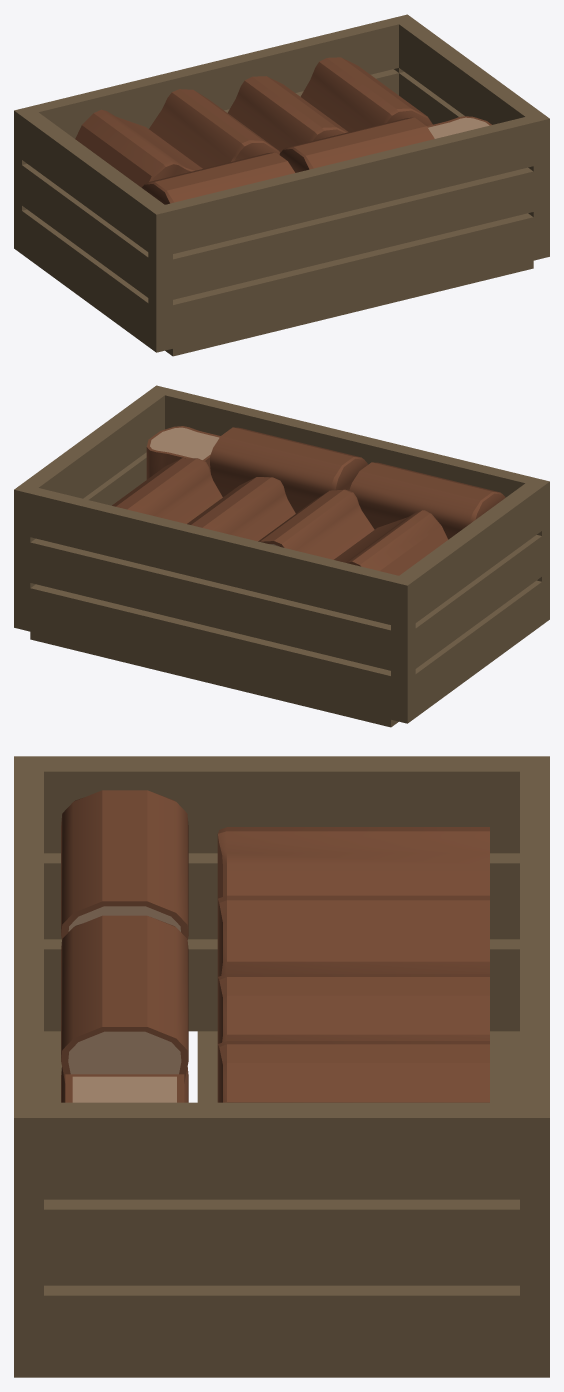
File: BreadCrate_RJ_16-11.fbx
3 renders of one model, top to bottom at view 1: azimuth 30°, elevation 25°; view 2: azimuth 150°, elevation 25°; view 3: azimuth 270°, elevation 25°, orthographic. The views are drawn at different scales.
Visible parts, largest first — view 1: BreadCrate; view 2: BreadCrate; view 3: BreadCrate.
Part boxes in pixels (<box>): BreadCrate: <box>14,14,549,356</box>; BreadCrate: <box>14,385,549,727</box>; BreadCrate: <box>14,756,549,1377</box>.
Bounding box in the file's own units: 508 × 188 × 318.
